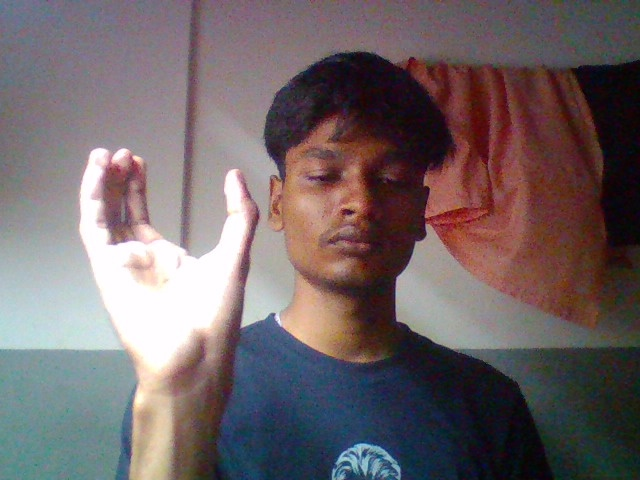U: (37, 133, 297, 477)
